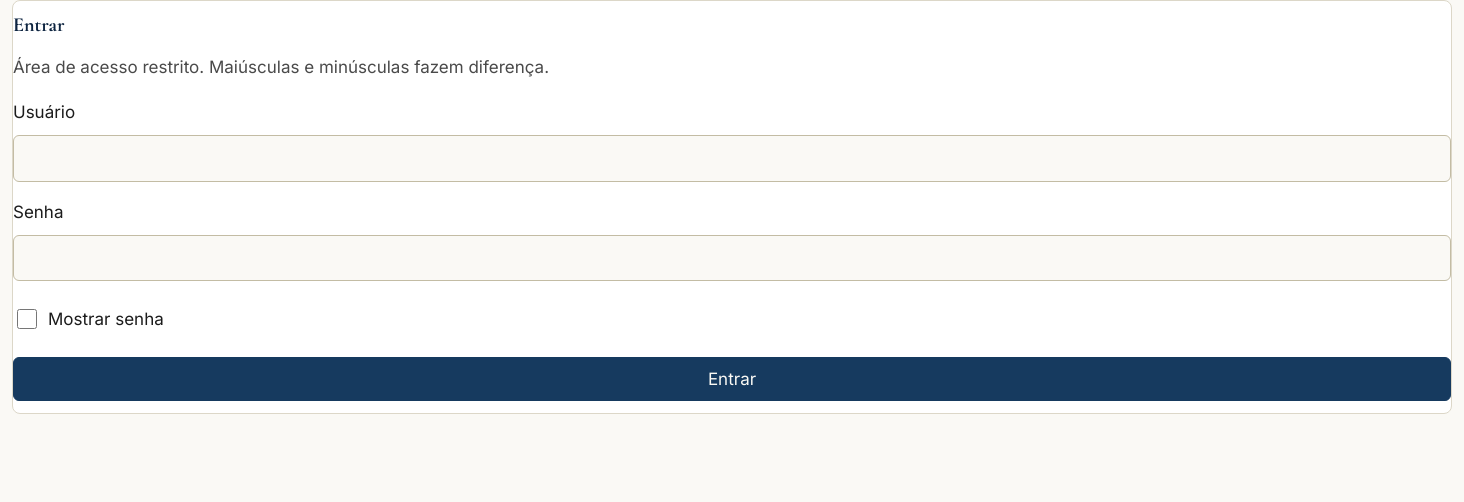
Scenario: EntradaJuri › usuário vazio não envia e pede o usuário
Type "provisoria-sintetica" into the password field named "senha" at (732, 258), box [13,235,1451,282]
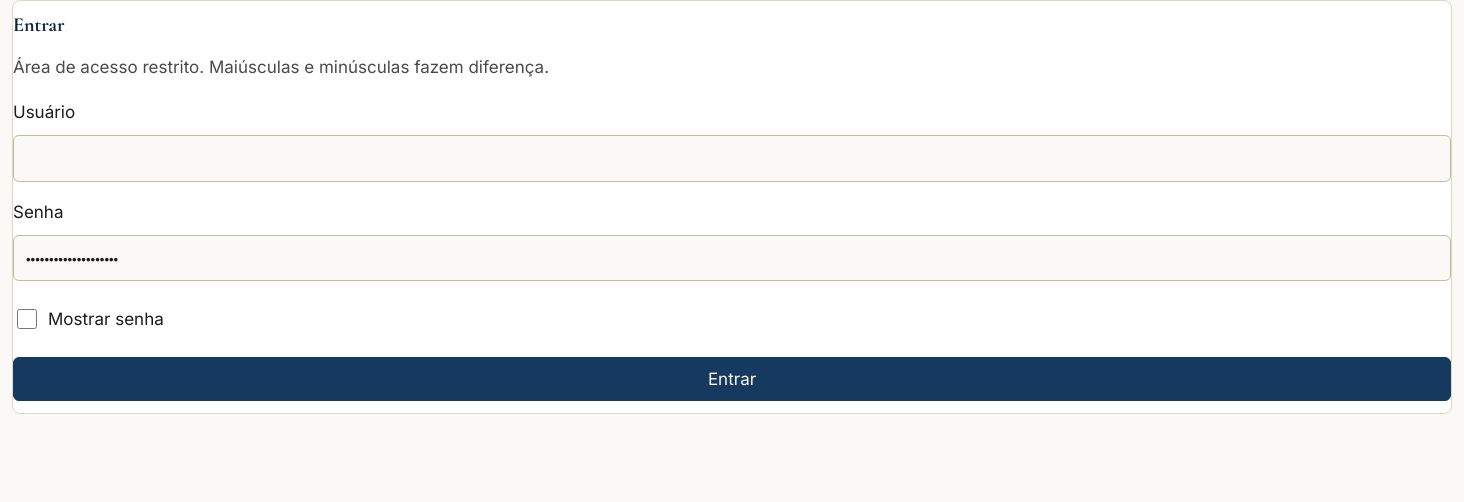
Submit the form
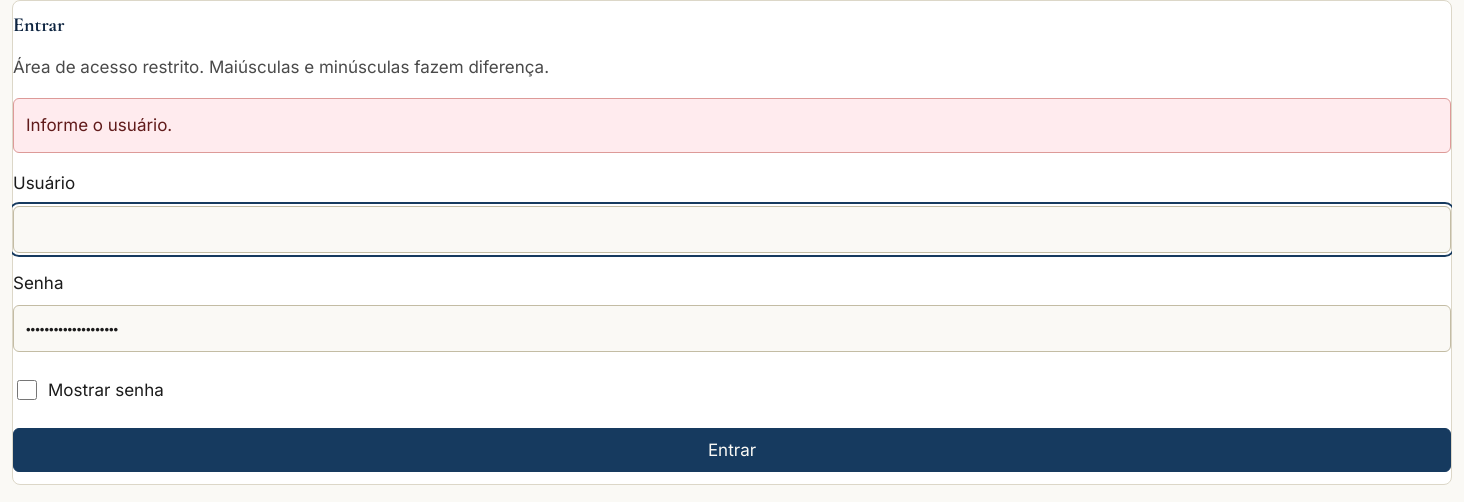
Expected: the message "Informe o usuário." is shown, [13,98,1451,153]
